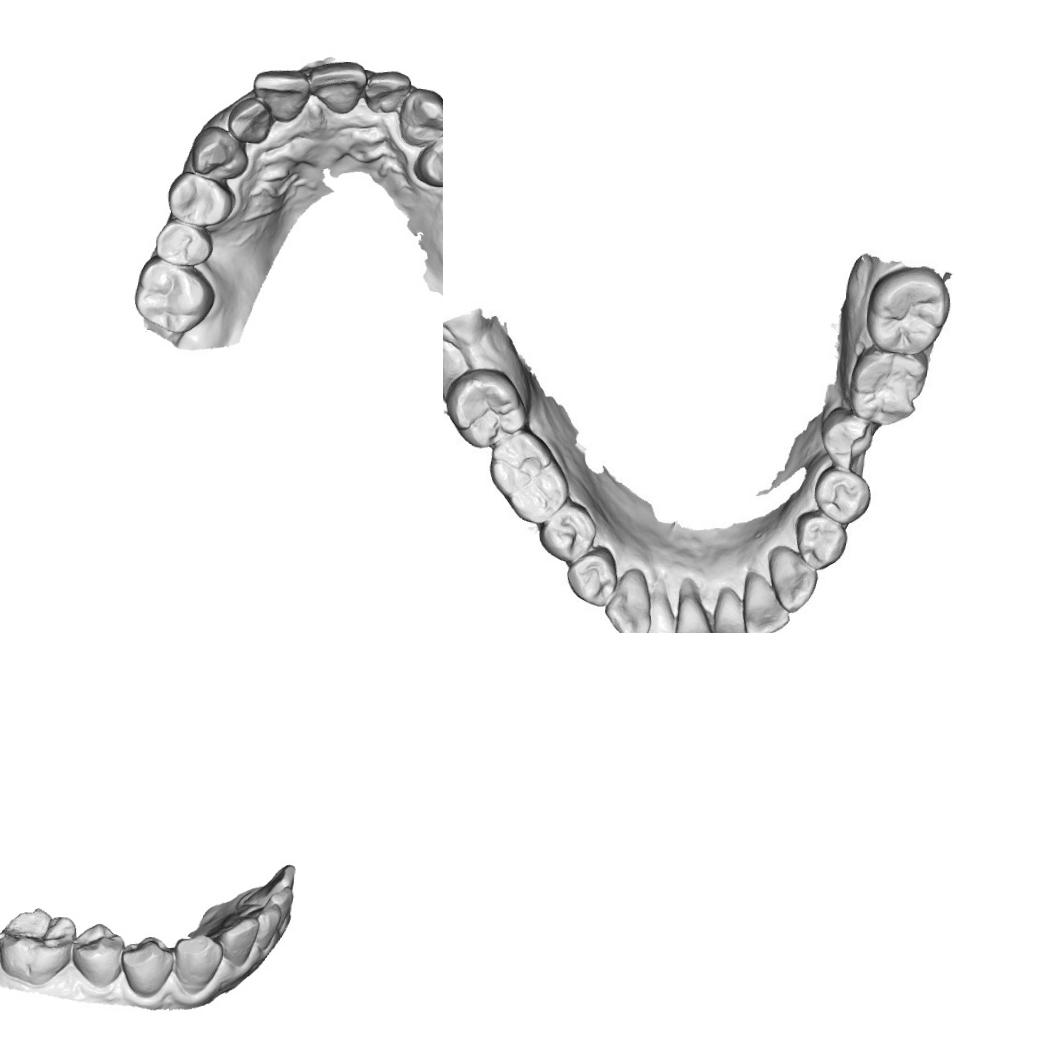canine: (767, 546, 822, 616), (188, 124, 250, 182), (170, 930, 223, 997), (603, 564, 653, 633), (394, 85, 443, 147)
incisor: (306, 57, 368, 116), (249, 65, 311, 123), (741, 572, 793, 633), (636, 573, 686, 633), (212, 911, 260, 969), (671, 579, 722, 633), (240, 860, 298, 906), (225, 94, 274, 144), (362, 68, 412, 115), (709, 587, 759, 633), (243, 902, 281, 952), (266, 883, 294, 930)
molar: (483, 428, 574, 528), (866, 269, 954, 358), (130, 252, 216, 336), (443, 365, 527, 449), (0, 902, 78, 988), (848, 348, 925, 429)
premolar: (790, 507, 853, 577), (164, 170, 236, 230), (68, 919, 126, 989), (117, 934, 175, 1001), (538, 502, 594, 564), (154, 216, 214, 268), (568, 550, 618, 603), (819, 468, 872, 517), (411, 129, 443, 190)
